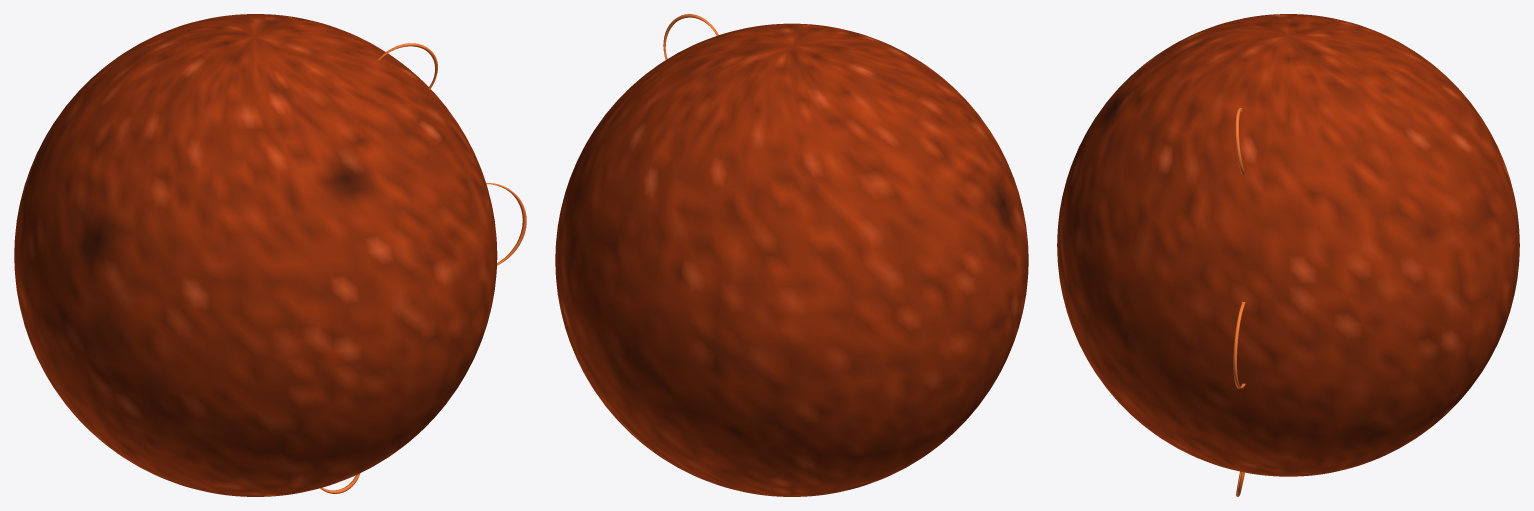
The model's file is Star_40.fbx.
3 renders of one model, left to right at view 1: azimuth 30°, elevation 25°; view 2: azimuth 150°, elevation 25°; view 3: azimuth 270°, elevation 25°, orthographic. The views are drawn at different scales.
Parts seen in each view (by area): view 1: Star_40; view 2: Star_40; view 3: Star_40.
Part boxes in pixels (x1,y1,x2,y2): Star_40: [14, 14, 526, 496]; Star_40: [555, 14, 1028, 496]; Star_40: [1057, 14, 1519, 496].
Bounding box in the file's own units: 216 × 206 × 200.
